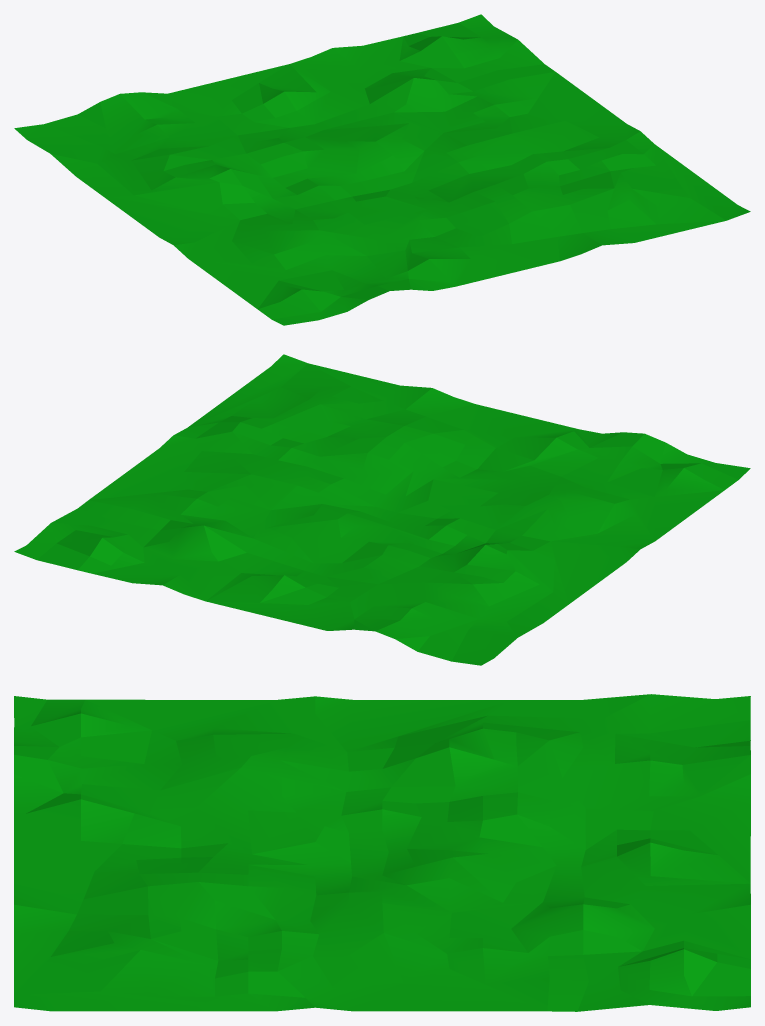
The model's file is ground2.fbx.
3 views of the same model, one above another, from view 1: azimuth 30°, elevation 25°; view 2: azimuth 150°, elevation 25°; view 3: azimuth 270°, elevation 25° (orthographic). The views are drawn at different scales.
Parts seen in each view (by area): view 1: Plane.002; view 2: Plane.002; view 3: Plane.002.
Boxes of the visible parts, bbox=[...] form: Plane.002: bbox=[14, 14, 750, 325]; Plane.002: bbox=[14, 354, 750, 665]; Plane.002: bbox=[14, 694, 750, 1011].
Size of the model in its own units: 4001 by 201 by 4001.
